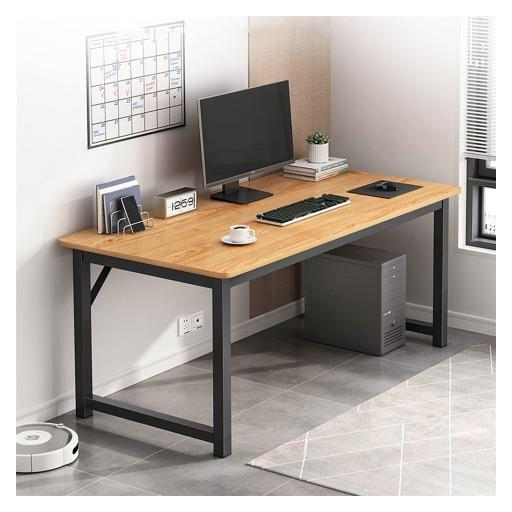table: (54, 162, 462, 432)
